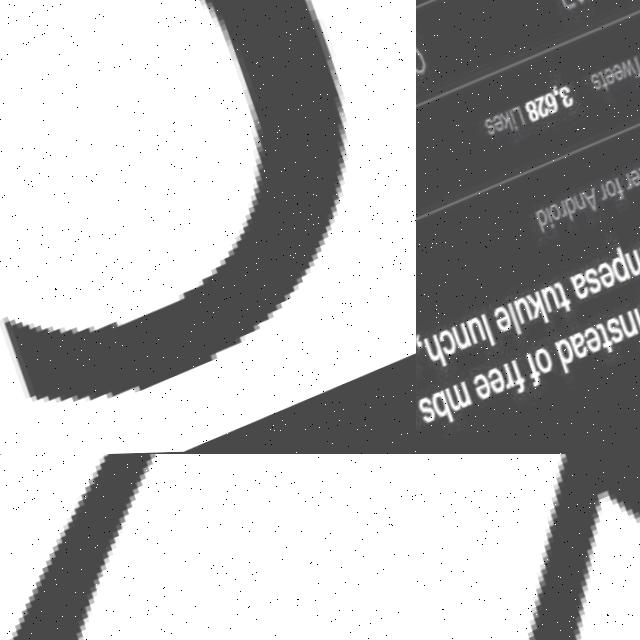2: (0, 454, 416, 640), (543, 92, 562, 116)
4: (524, 99, 544, 124)
C: (1, 0, 346, 400)
V: (416, 454, 640, 640)
